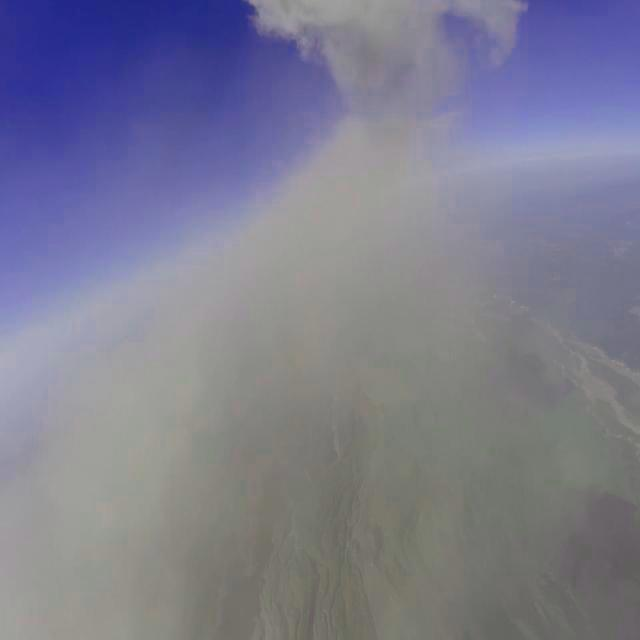Plume: (0, 167, 640, 640), (241, 0, 530, 118)
